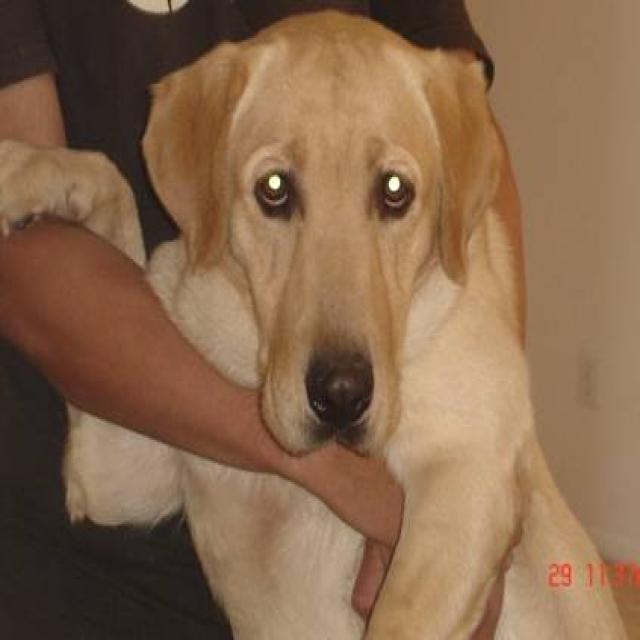sad: (137, 1, 553, 550)
